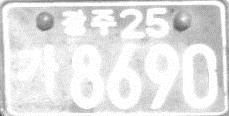0: (180, 42, 219, 110)
2: (118, 7, 145, 40)
5: (144, 6, 170, 40)
6: (106, 40, 143, 110)
8: (67, 42, 106, 109)
9: (143, 41, 181, 111)
가: (15, 42, 62, 94)
광주_O: (60, 8, 118, 38)
